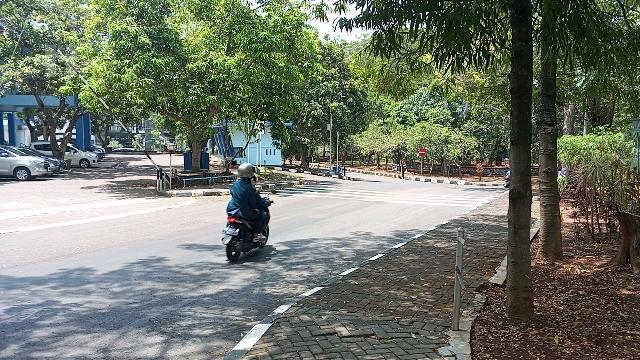helm: (239, 164, 258, 181)
motor: (222, 189, 279, 265)
